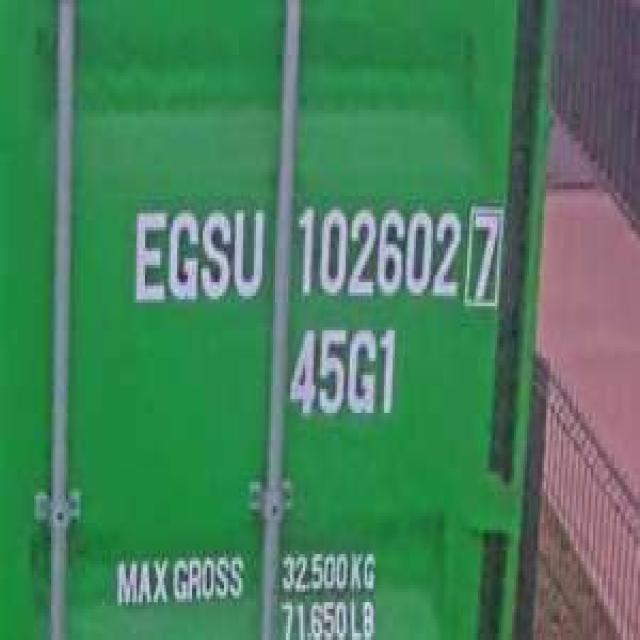dv: (460, 196, 506, 313)
owner: (126, 193, 267, 313)
serial: (290, 192, 464, 310)
size: (284, 317, 401, 430)
